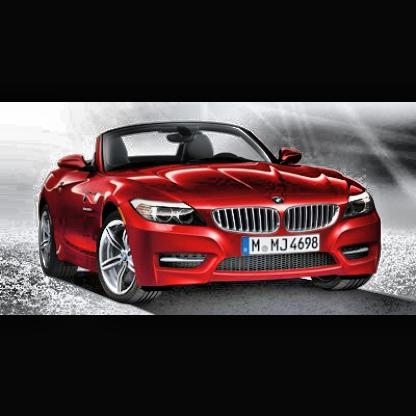BMW Z4 Convertible 2012: (40, 126, 383, 303)
